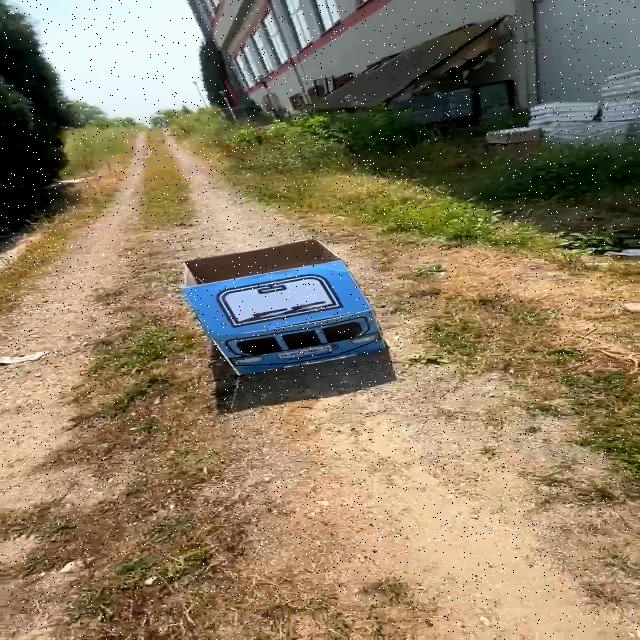blue_car: (157, 240, 420, 396)
